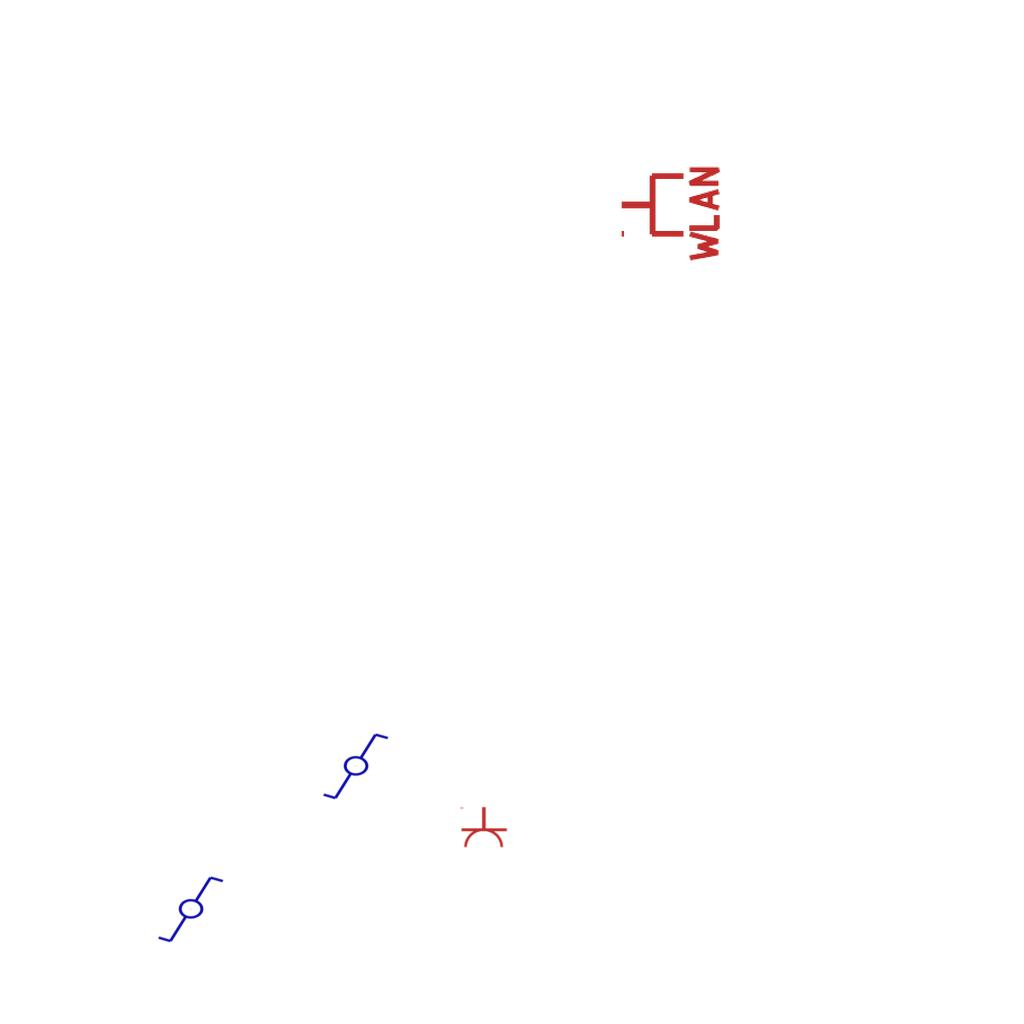Schukosteckdose_einfach: (458, 806, 508, 849)
WLAN: (617, 162, 722, 266)
Wechselschalter: (321, 731, 399, 803), (156, 874, 234, 946)
